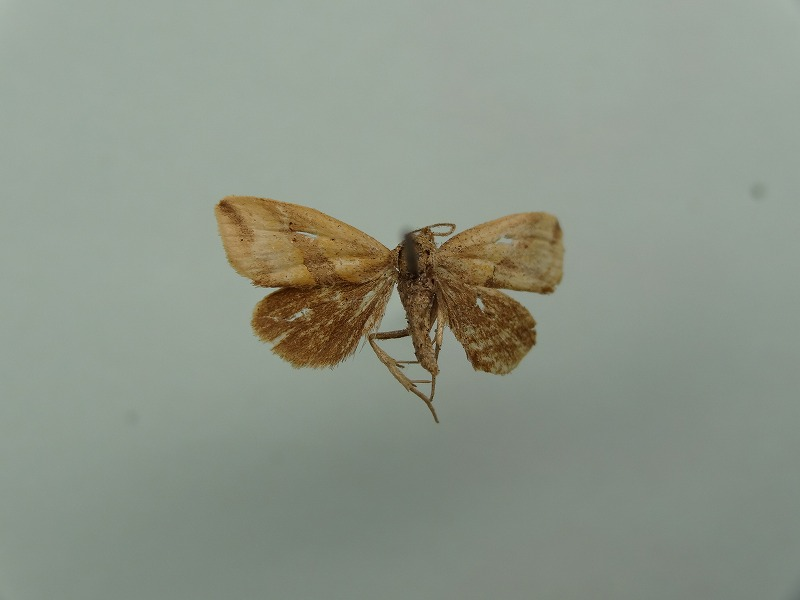Noctuidae: (214, 189, 569, 419)
